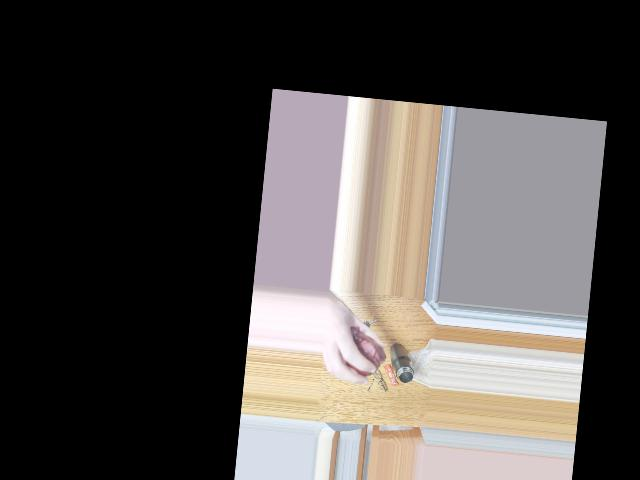onion: (345, 330, 383, 376)
